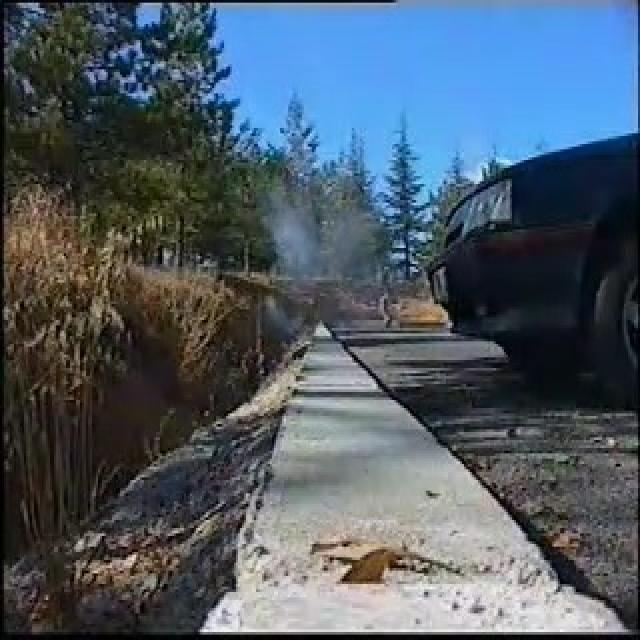smoke: (272, 193, 349, 337)
